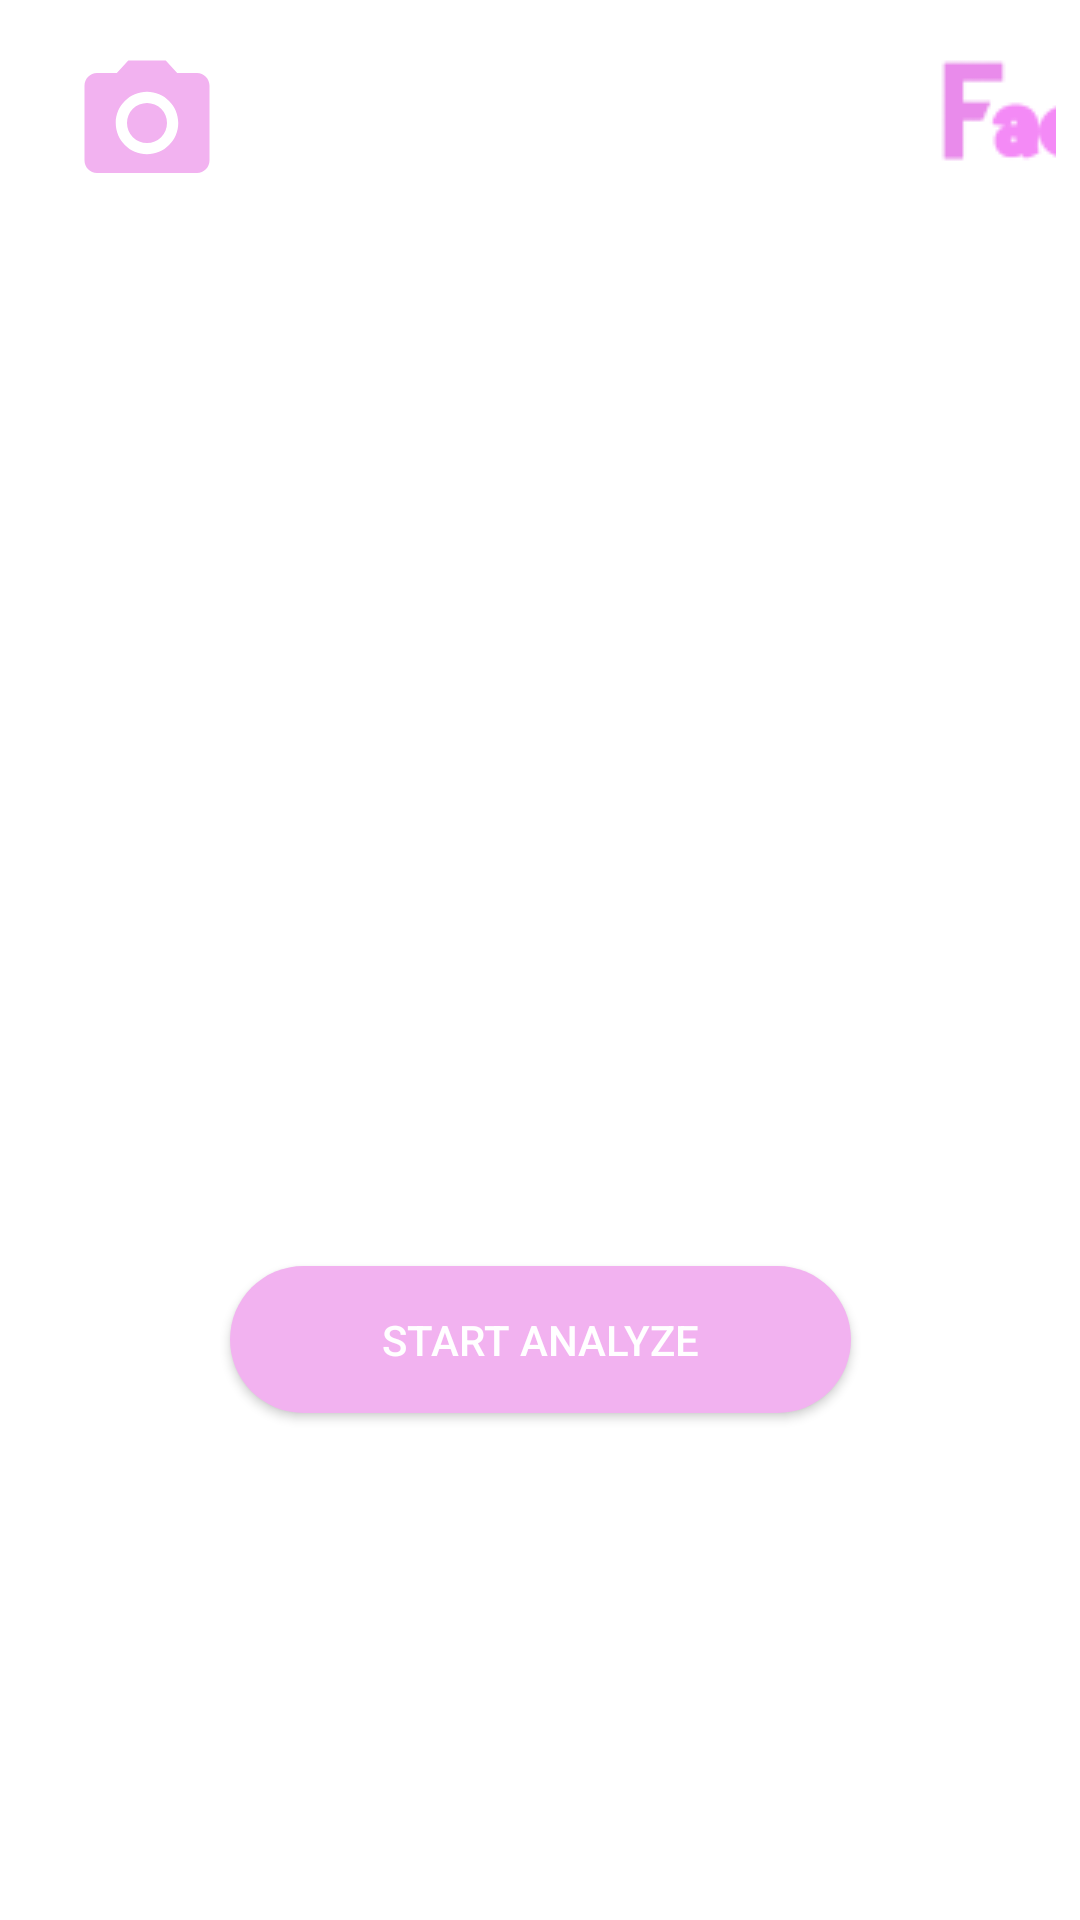

Locate icon controls on the screen. Image size 1080×1920, boxes as (x1, y1, x2, y2).
camera: (84, 60, 210, 173)
